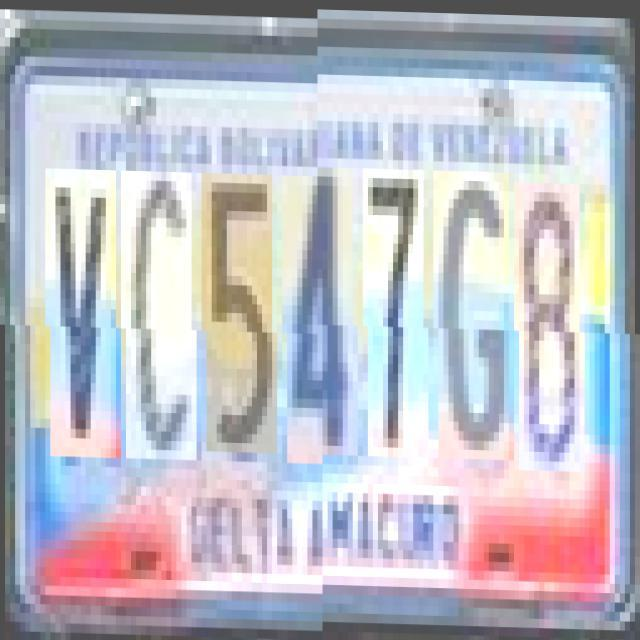4: (287, 174, 358, 462)
5: (206, 172, 278, 452)
7: (368, 176, 428, 464)
8: (519, 188, 585, 478)
C: (126, 170, 196, 459)
G: (438, 177, 514, 466)
V: (50, 168, 121, 457)
